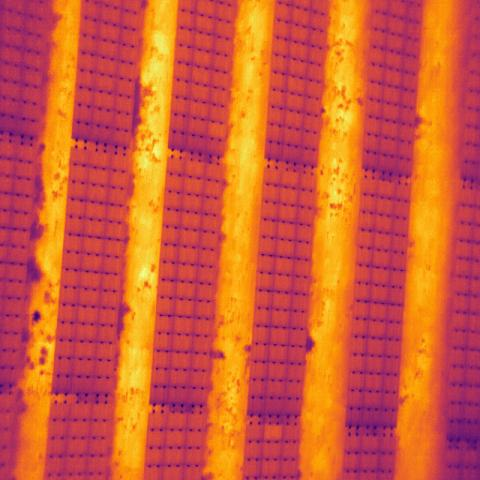fault: (264, 424, 283, 442)
